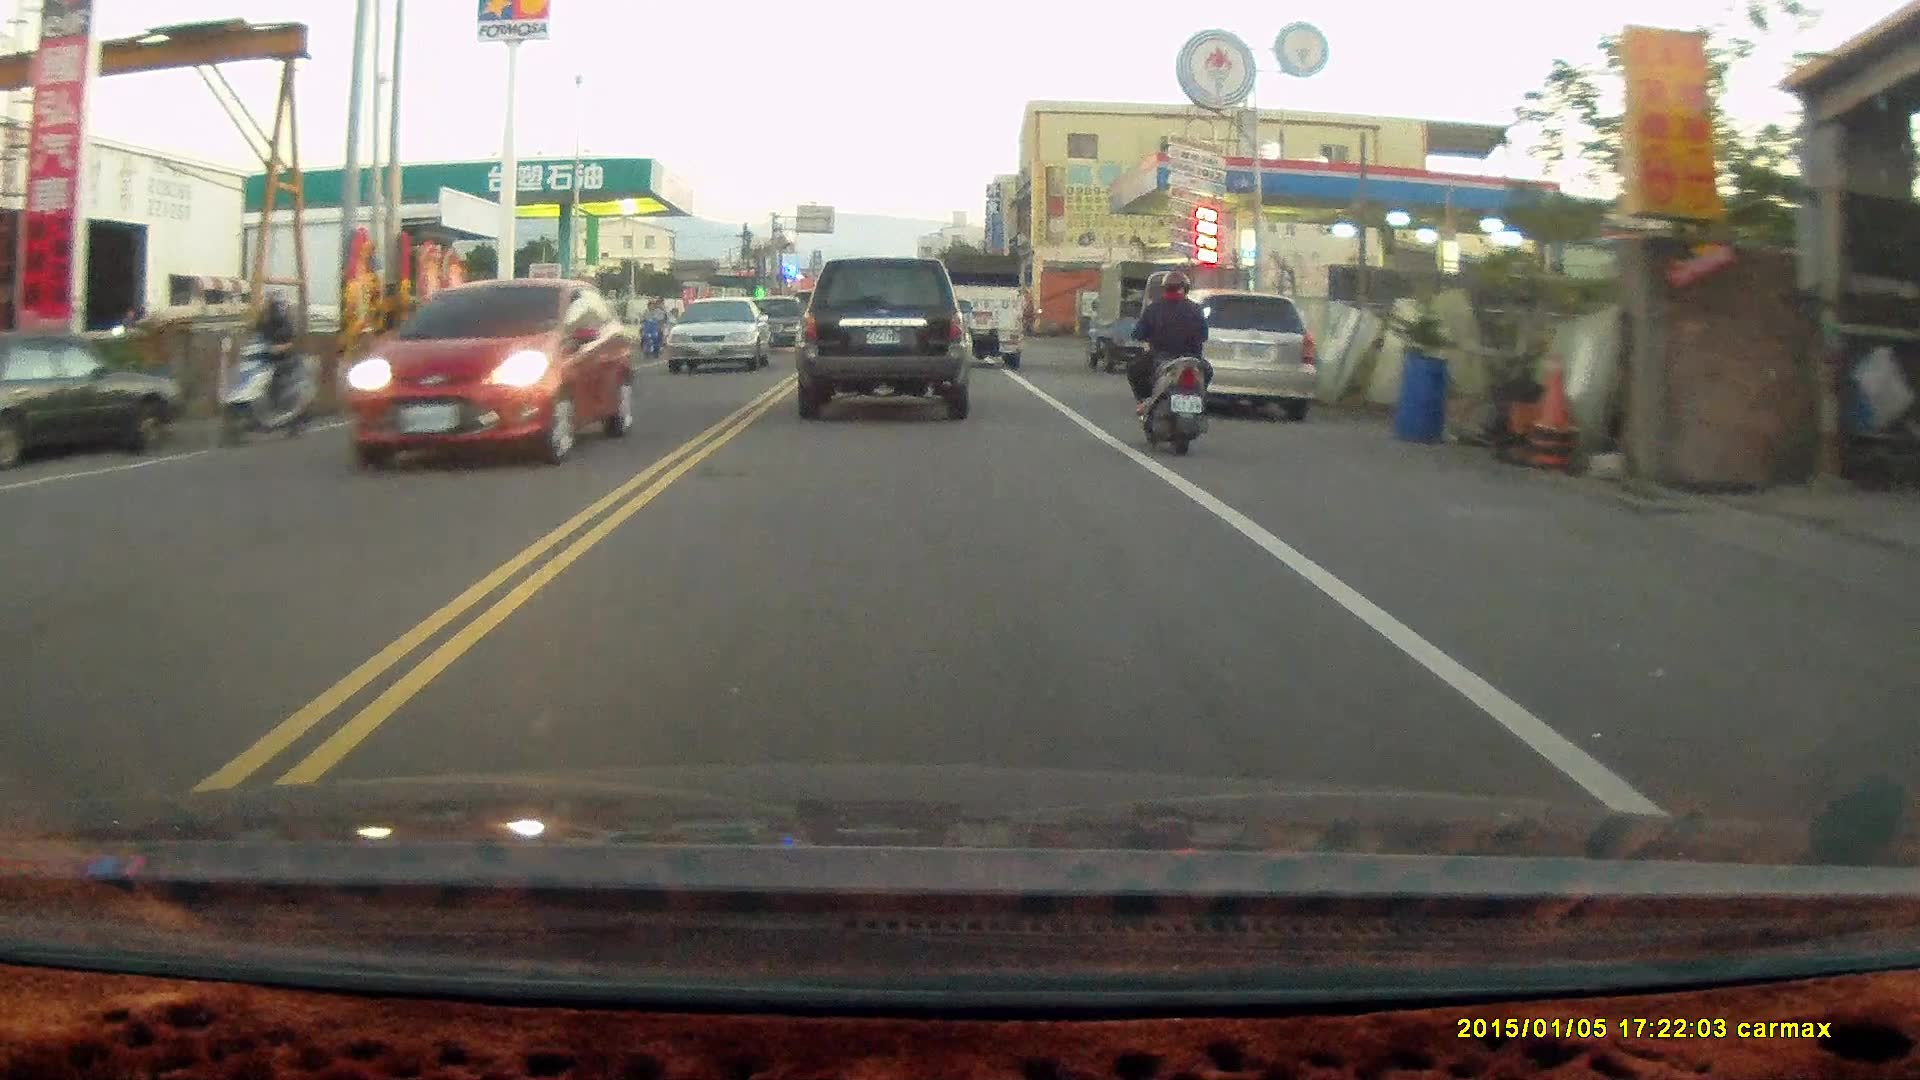rider: (193, 294, 316, 458), (1119, 269, 1216, 455), (633, 296, 669, 361)
vehicle: (349, 281, 631, 472), (794, 257, 968, 422), (405, 281, 592, 421), (1, 331, 182, 470), (1148, 291, 1316, 428), (1084, 260, 1194, 377), (936, 251, 1025, 370), (667, 294, 774, 373), (739, 297, 813, 350)
